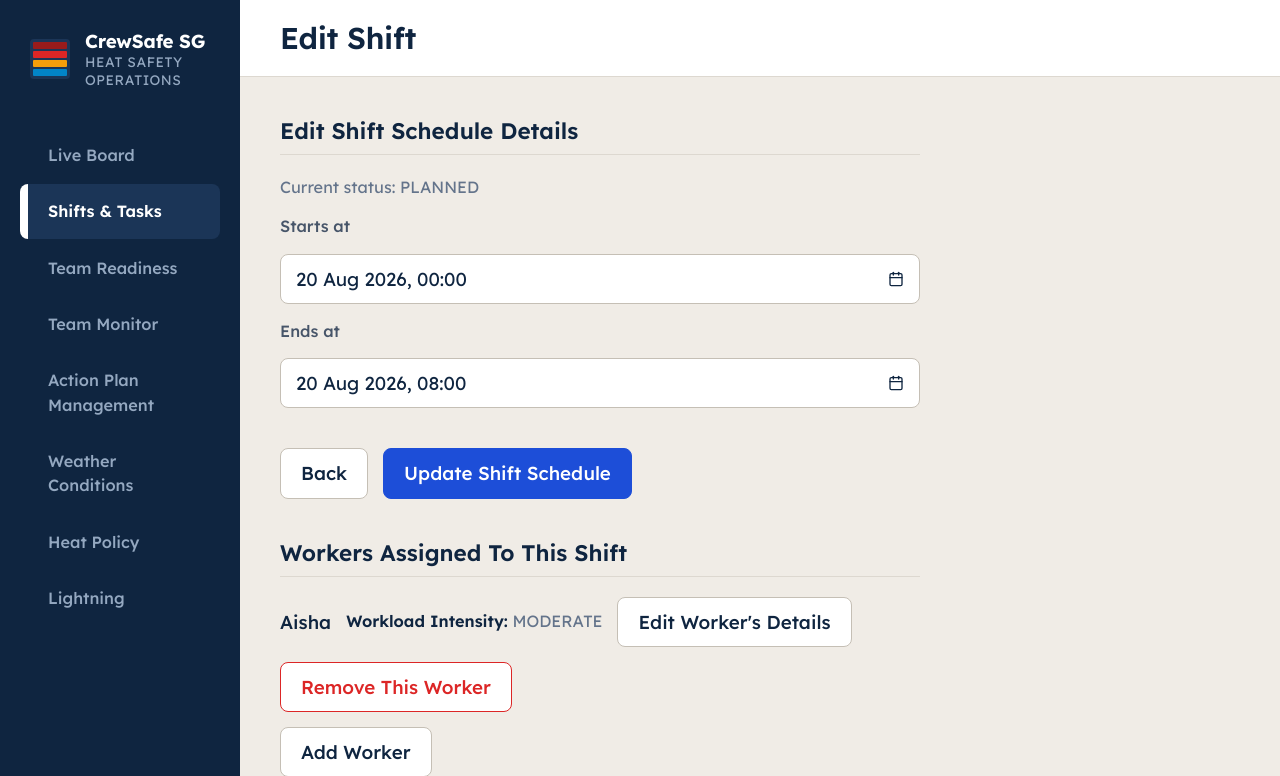
Test case: EditShiftForm › removes a worker from the roster
Click the button "Remove This Worker".
click(396, 687)  # box left=280, top=662, right=512, bottom=712
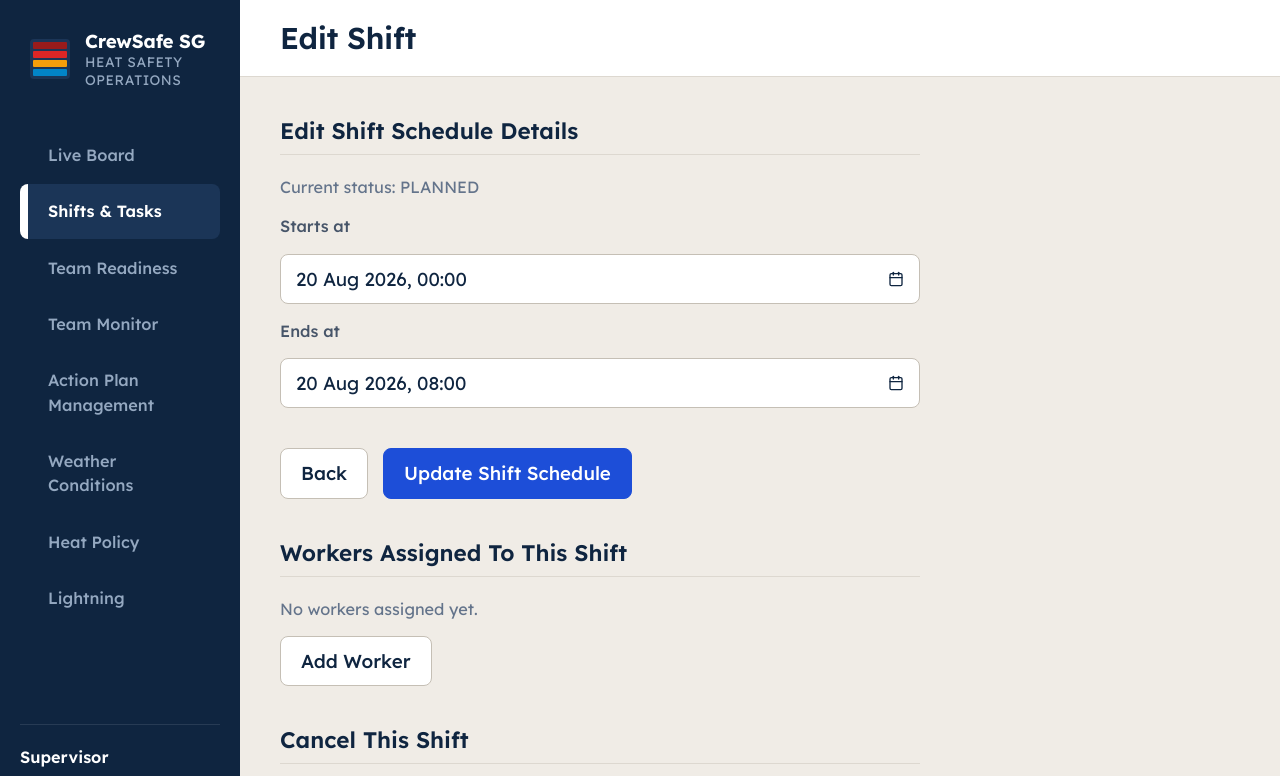
Result: the text "No workers assigned yet." is shown at left=280, top=598, right=478, bottom=618
